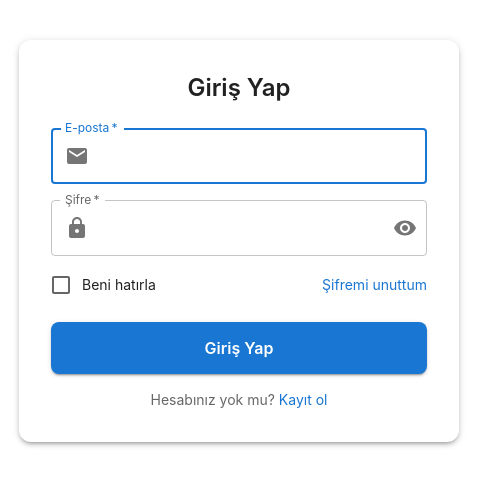
Scenario: Login Flow (Turkish) › should show validation errors for empty fields
What coordinates should you click on to do the following:
click the submit button
I would click on:
 (239, 348)
Its box is [51,322,427,374].
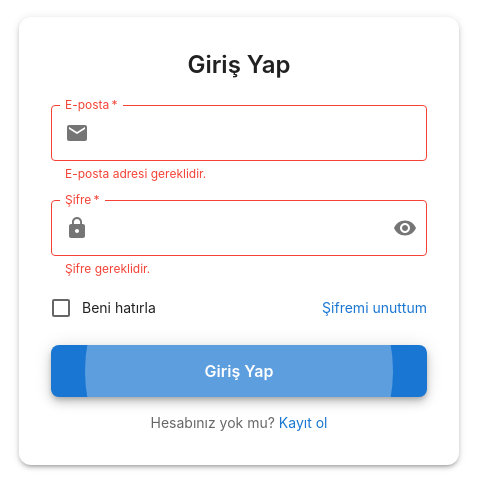
Expected: the text "E-posta adresi gereklidir" is shown, [65,166,206,181]
Expected: the text "Şifre gereklidir" is shown, [65,261,150,276]
